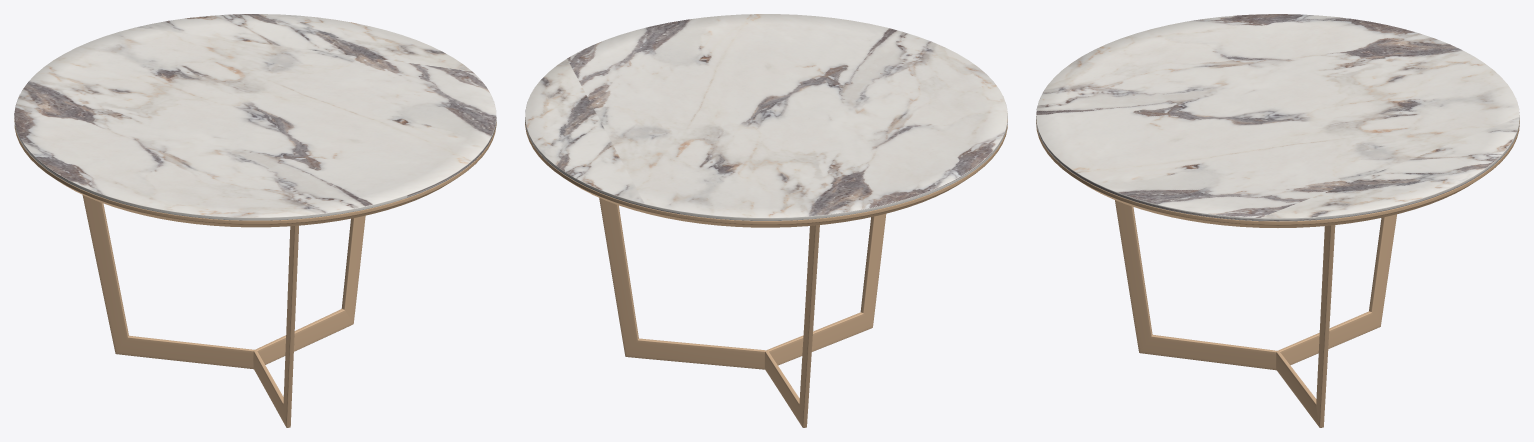
File: SBH_Curiosity_ST.glb
The picture shows the model from 3 angles, left to right: view 1: azimuth 30°, elevation 25°; view 2: azimuth 150°, elevation 25°; view 3: azimuth 270°, elevation 25°; orthographic projection.
Parts seen in each view (by area): view 1: Curiosity_ST; view 2: Curiosity_ST; view 3: Curiosity_ST.
Boxes of the visible parts, x1=… form: Curiosity_ST: x1=14, y1=14, x2=496, y2=427; Curiosity_ST: x1=525, y1=14, x2=1007, y2=427; Curiosity_ST: x1=1036, y1=14, x2=1519, y2=427.
Bounding box in the file's own units: 0.7755 × 0.4491 × 0.7756.
2 materials, 1 textured.
